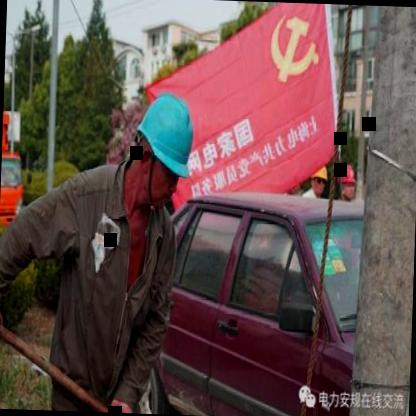helmet: (124, 77, 200, 214), (336, 160, 360, 204), (309, 161, 329, 197)
